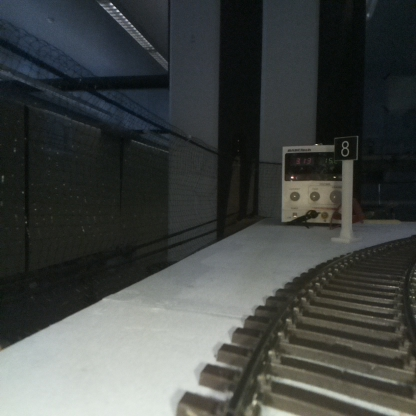black-info-8: (334, 137, 356, 240)
